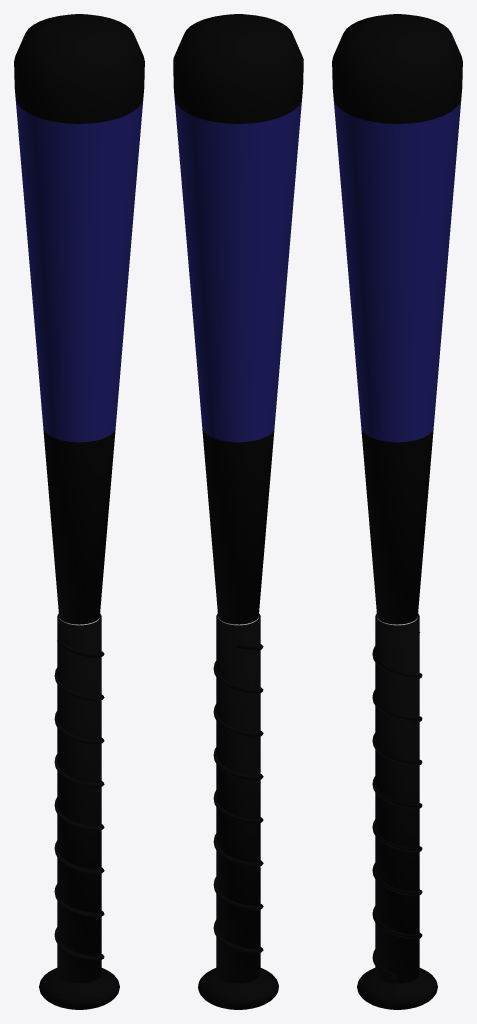
The model's file is ブヨンド.fbx.
3 renders of one model, left to right at view 1: azimuth 90°, elevation 25°; view 2: azimuth 150°, elevation 25°; view 3: azimuth 270°, elevation 25°, orthographic.
Visible parts, largest first — view 1: 先, グリップテープ, テープの間, グリップエンド; view 2: 先, グリップテープ, テープの間, グリップエンド; view 3: 先, グリップテープ, テープの間, グリップエンド.
Boxes of the visible parts, x1,y1,x2,y2 form: 先: [14, 14, 144, 624]; グリップテープ: [57, 613, 101, 983]; テープの間: [54, 639, 104, 960]; グリップエンド: [39, 968, 119, 1009]; 先: [173, 14, 303, 624]; グリップテープ: [216, 613, 260, 983]; テープの間: [213, 643, 263, 953]; グリップエンド: [198, 968, 278, 1009]; 先: [332, 14, 462, 624]; グリップテープ: [375, 613, 419, 983]; テープの間: [372, 632, 422, 979]; グリップエンド: [357, 968, 437, 1009].
Bounding box in the file's own units: 168 × 1383 × 168.
